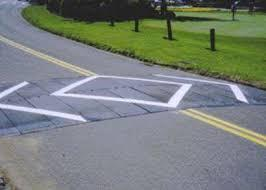Bump: (3, 73, 266, 126)
